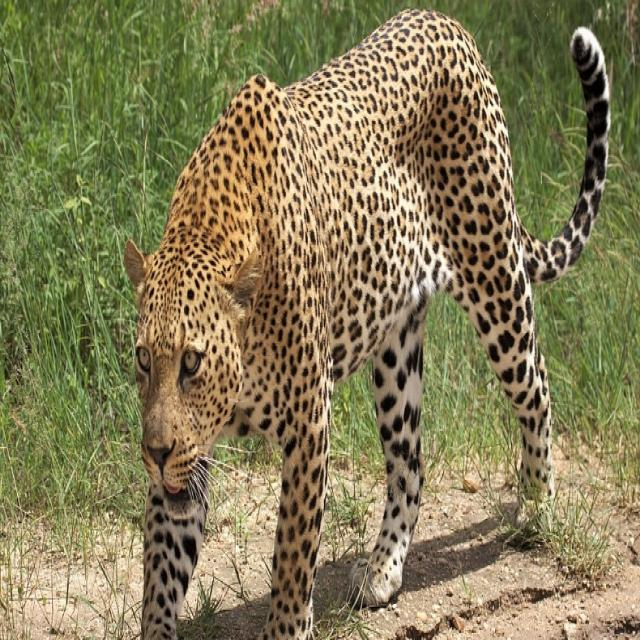Leopard: (121, 13, 607, 640)
